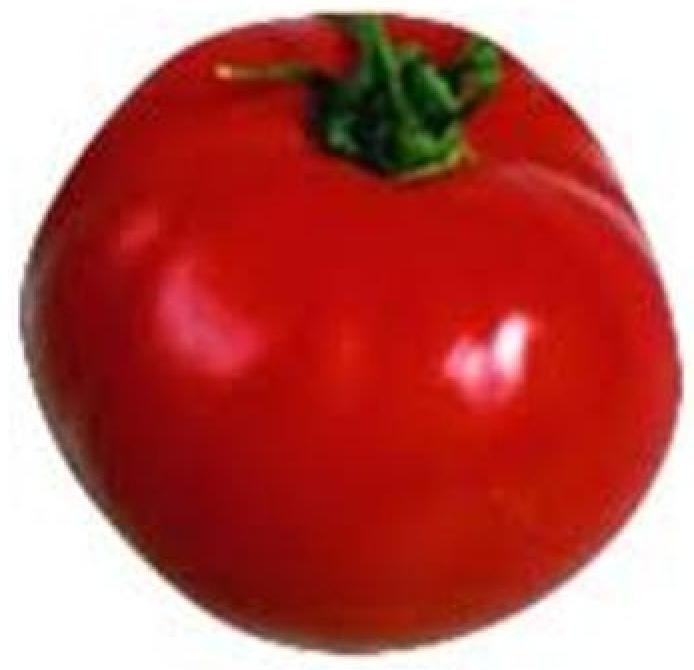tomato: (27, 14, 681, 661)
